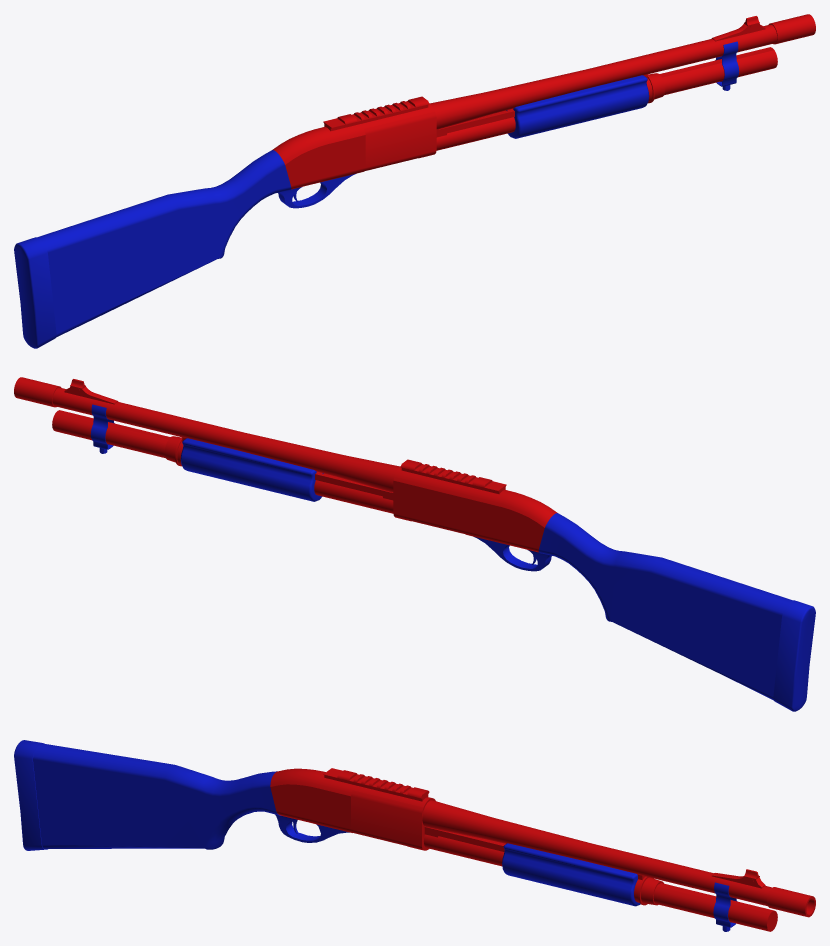
Rendered from shotgun.fbx.
3 renders of one model, top to bottom at view 1: azimuth 30°, elevation 25°; view 2: azimuth 150°, elevation 25°; view 3: azimuth 330°, elevation 25°, orthographic.
Parts seen in each view (by area): view 1: shotgun, shotgun_01; view 2: shotgun, shotgun_01; view 3: shotgun, shotgun_01.
Part boxes in pixels (x1,y1,x2,y2): shotgun: [14, 14, 815, 348]; shotgun_01: [506, 75, 649, 138]; shotgun: [14, 377, 815, 711]; shotgun_01: [180, 438, 323, 501]; shotgun: [14, 740, 815, 931]; shotgun_01: [502, 843, 640, 906].
Size of the model in its own units: 107 by 19.92 by 4.24.
